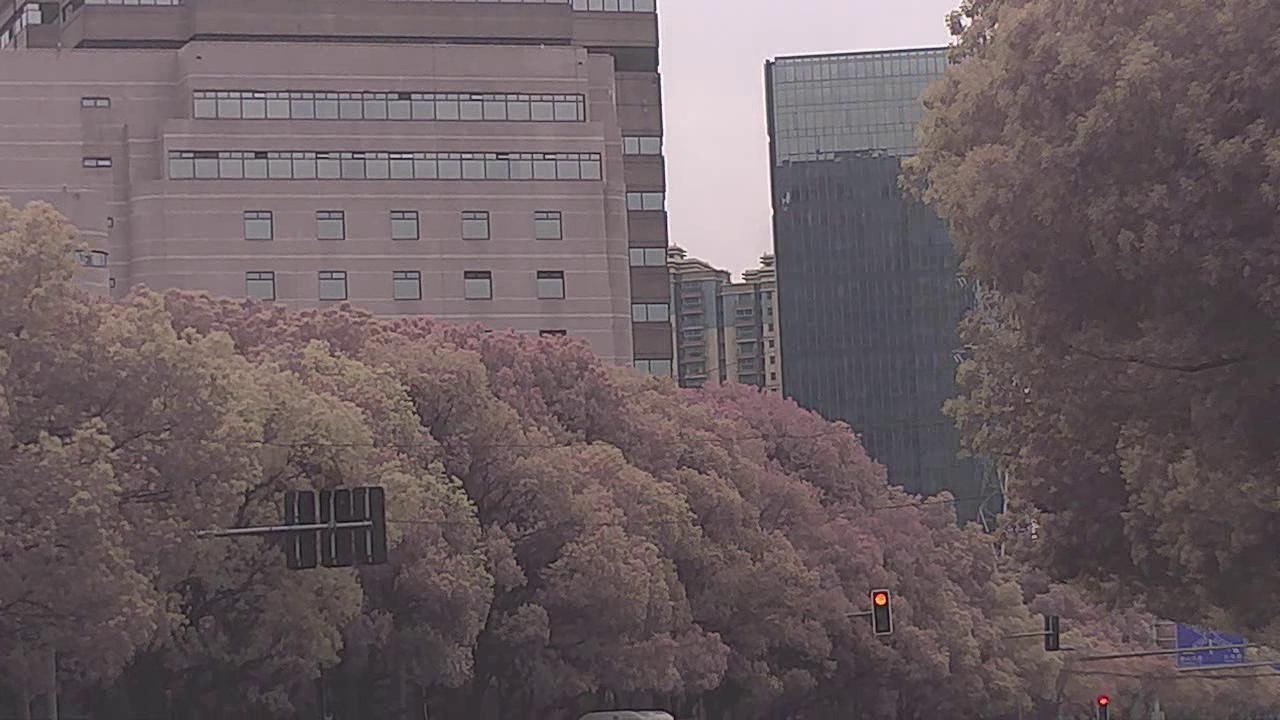traffic_light: (872, 590, 893, 635)
